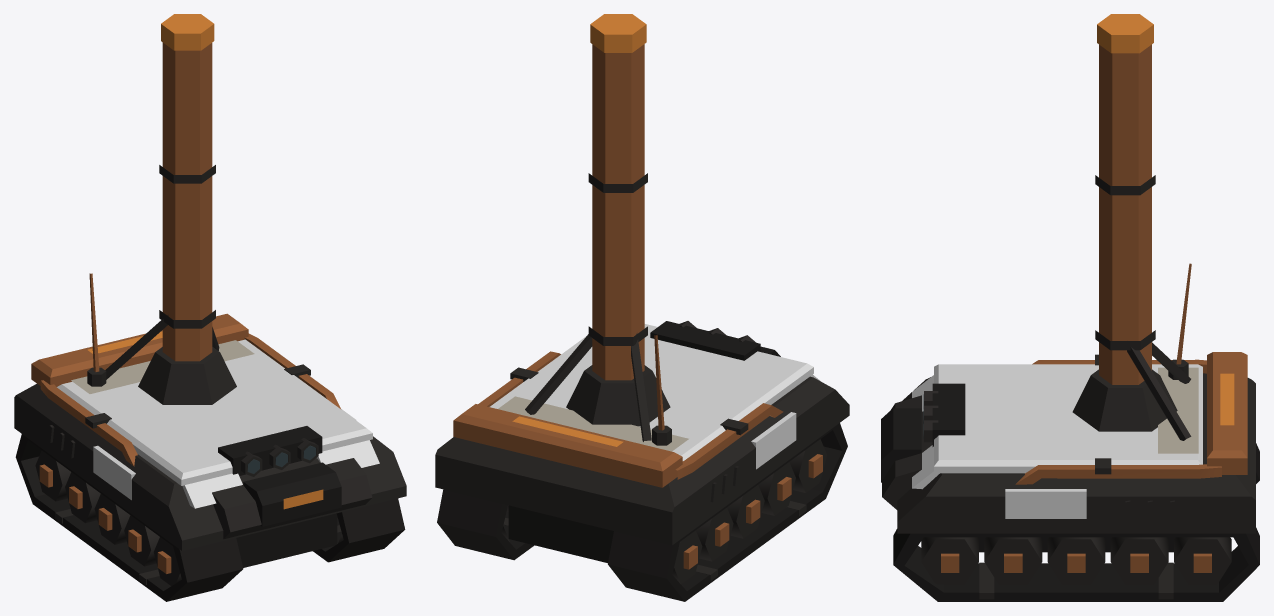
Rendered from lnd_t1_scout.217117ae.raw.glb.
3 renders of one model, left to right at view 1: azimuth 30°, elevation 25°; view 2: azimuth 150°, elevation 25°; view 3: azimuth 270°, elevation 25°, orthographic. The views are drawn at different scales.
Parts seen in each view (by area): view 1: lod0; view 2: lod0; view 3: lod0.
Boxes of the visible parts, x1,y1,x2,y2 form: lod0: (14, 14, 406, 601); lod0: (435, 14, 849, 601); lod0: (881, 14, 1259, 601).
Size of what is drawn, in the model's own units: 0.694 by 1.41 by 0.937.
